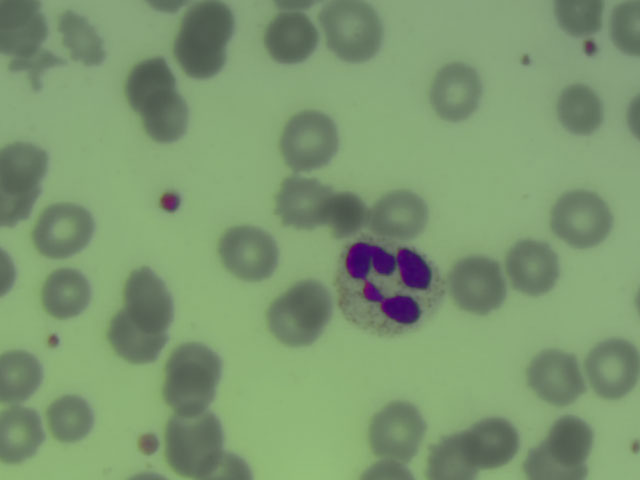Platelets: (133, 426, 162, 460), (155, 190, 183, 216), (41, 329, 62, 353), (518, 49, 535, 73), (581, 37, 602, 56), (624, 434, 640, 458)
RBC: (322, 1, 386, 64), (125, 261, 178, 334), (513, 438, 600, 480), (366, 400, 427, 459), (1, 403, 47, 467), (271, 288, 326, 341), (218, 227, 273, 280), (373, 188, 428, 241), (316, 185, 371, 238), (275, 174, 330, 227), (283, 111, 338, 164), (543, 414, 598, 467), (462, 415, 517, 468), (424, 427, 479, 480), (526, 350, 581, 403), (585, 343, 640, 396), (448, 257, 503, 310), (507, 242, 562, 295), (557, 193, 612, 246), (552, 81, 607, 134), (430, 65, 485, 118), (264, 12, 319, 65), (167, 409, 222, 462), (162, 362, 217, 415), (110, 310, 165, 363), (44, 392, 99, 445), (35, 268, 90, 321), (36, 202, 91, 255), (138, 89, 193, 142), (123, 60, 178, 113), (172, 28, 227, 81), (54, 11, 109, 64), (1, 1, 54, 53), (1, 347, 46, 406), (1, 141, 55, 189), (166, 339, 221, 381), (1, 174, 36, 236), (181, 1, 235, 41), (194, 449, 259, 480), (546, 1, 603, 36), (607, 1, 640, 57)
WBC: (342, 235, 438, 333)
